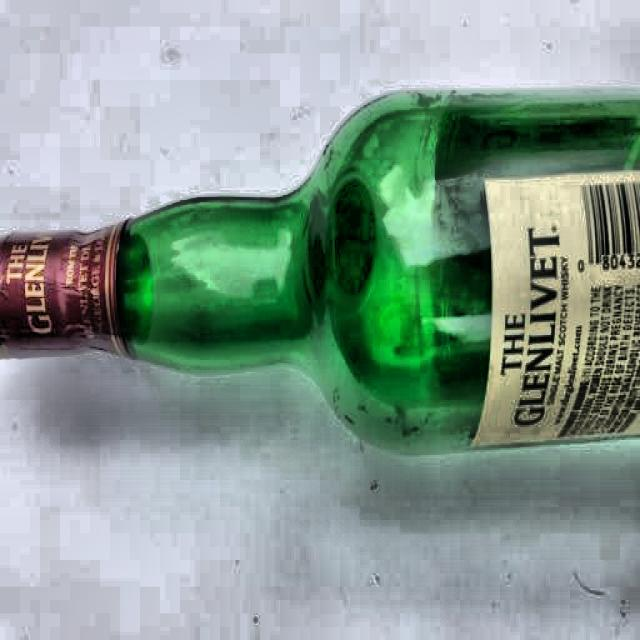glass: (4, 90, 640, 459)
